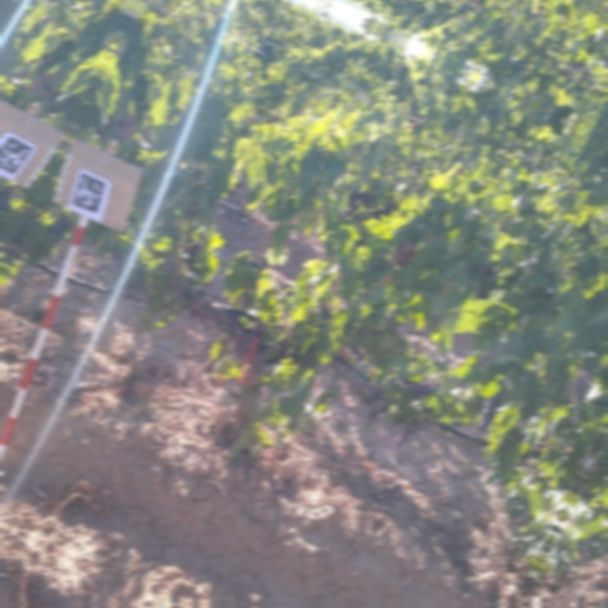QR: (69, 176, 107, 217)
